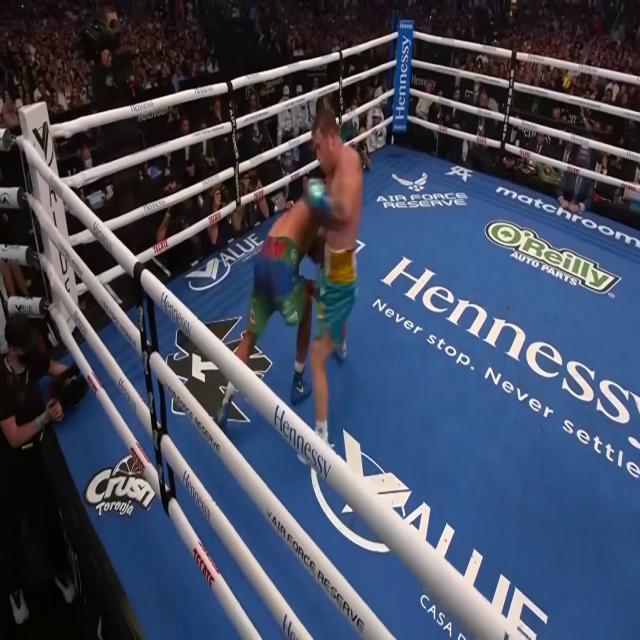boxer_1: (261, 197, 322, 273)
boxer_2: (313, 107, 363, 282)
gloves_2: (304, 177, 329, 214)
